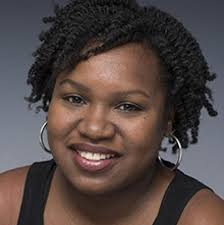black_female: (25, 3, 217, 192)
